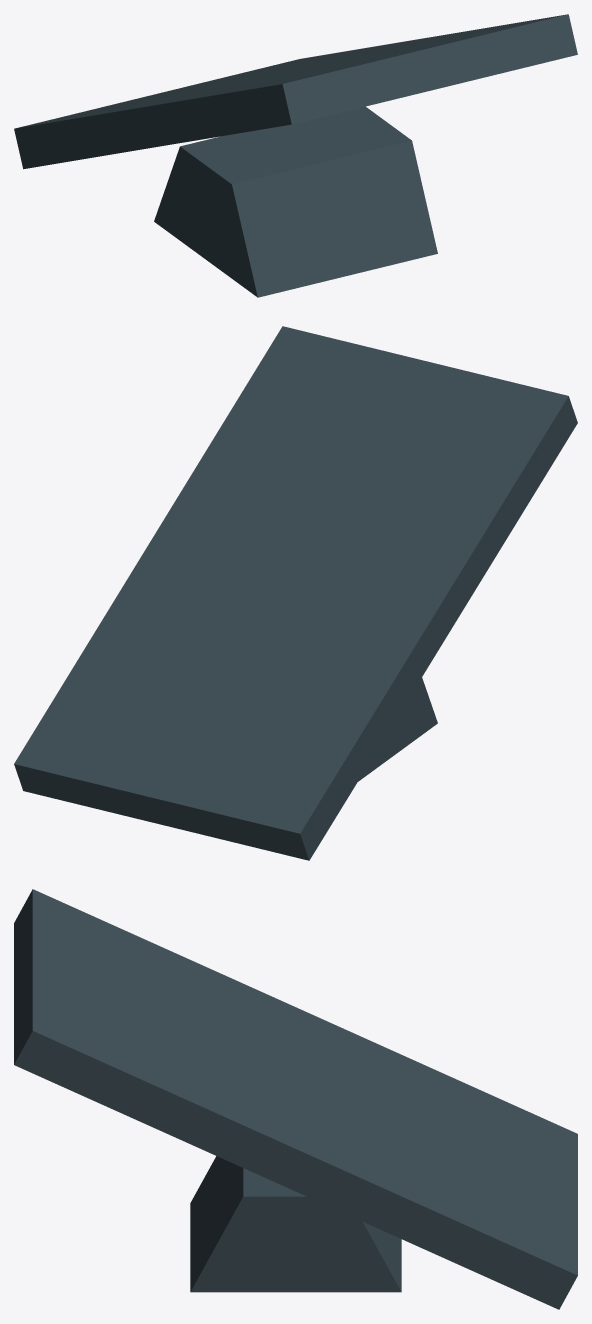
File: LabTortureBed.gltf
3 views of the same model, one above another, from view 1: azimuth 30°, elevation 25°; view 2: azimuth 150°, elevation 25°; view 3: azimuth 270°, elevation 25° (orthographic).
Visible parts, largest first — view 1: TortureBed; view 2: TortureBed; view 3: TortureBed.
Part boxes in pixels (box(x1,y1,x2,y2)): TortureBed: box(14, 14, 577, 297); TortureBed: box(14, 326, 577, 860); TortureBed: box(14, 889, 577, 1309).
Size of the model in its own units: 1.59 by 1.5 by 2.67.
